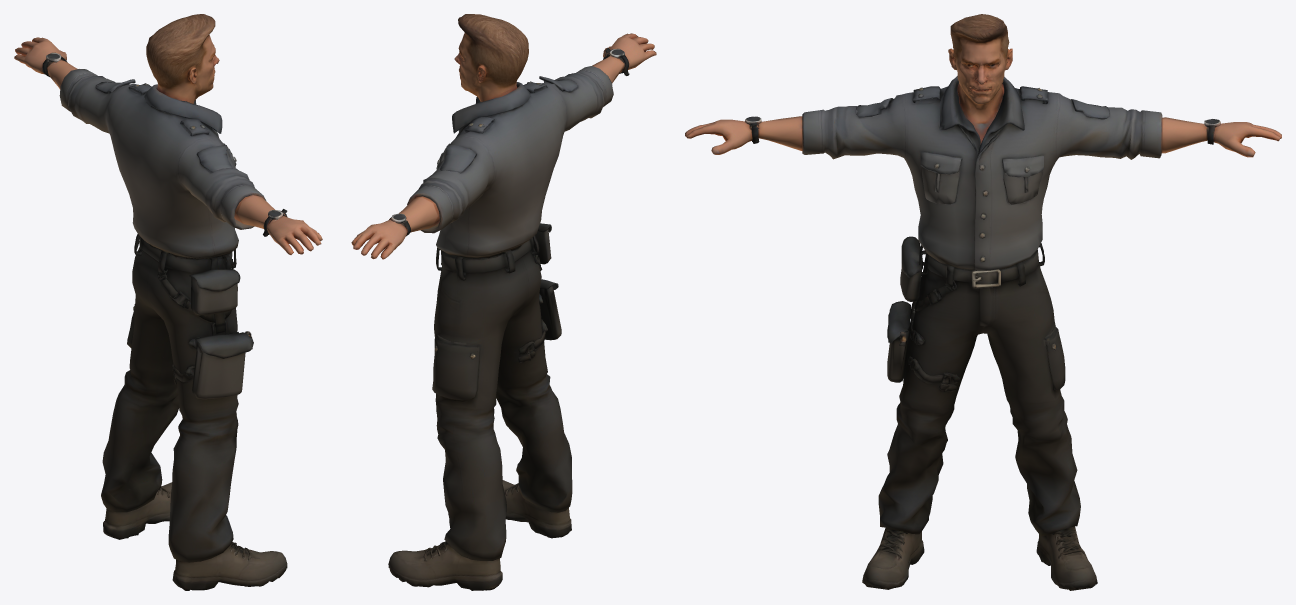
The model's file is CHR_Adrian_Base.glb.
3 renders of one model, left to right at view 1: azimuth 30°, elevation 25°; view 2: azimuth 150°, elevation 25°; view 3: azimuth 270°, elevation 25°, orthographic. The views are drawn at different scales.
Visible parts, largest first — view 1: tripo_node_136d6f7e-6777-4c0d-8adc-65ae0a6920d5; view 2: tripo_node_136d6f7e-6777-4c0d-8adc-65ae0a6920d5; view 3: tripo_node_136d6f7e-6777-4c0d-8adc-65ae0a6920d5.
Part boxes in pixels (bbox=[...]): tripo_node_136d6f7e-6777-4c0d-8adc-65ae0a6920d5: bbox=[14, 14, 322, 590]; tripo_node_136d6f7e-6777-4c0d-8adc-65ae0a6920d5: bbox=[351, 14, 656, 590]; tripo_node_136d6f7e-6777-4c0d-8adc-65ae0a6920d5: bbox=[685, 14, 1281, 590].
Bounding box in the file's own units: 0.2012 × 0.998 × 0.9746.
1 material, 1 textured.
